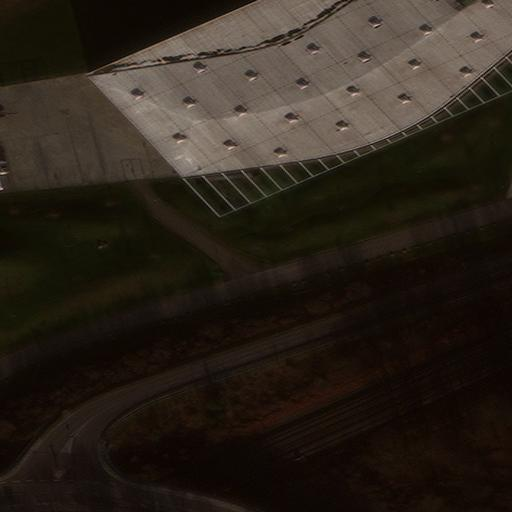Small Civil Transport: (0, 155, 11, 190)
